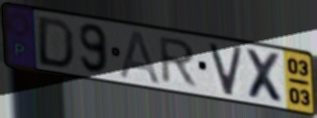9: (77, 23, 110, 76)
A: (118, 29, 163, 87)
D: (35, 14, 76, 70)
R: (158, 35, 200, 89)
V: (206, 41, 245, 98)
X: (243, 46, 288, 107)
